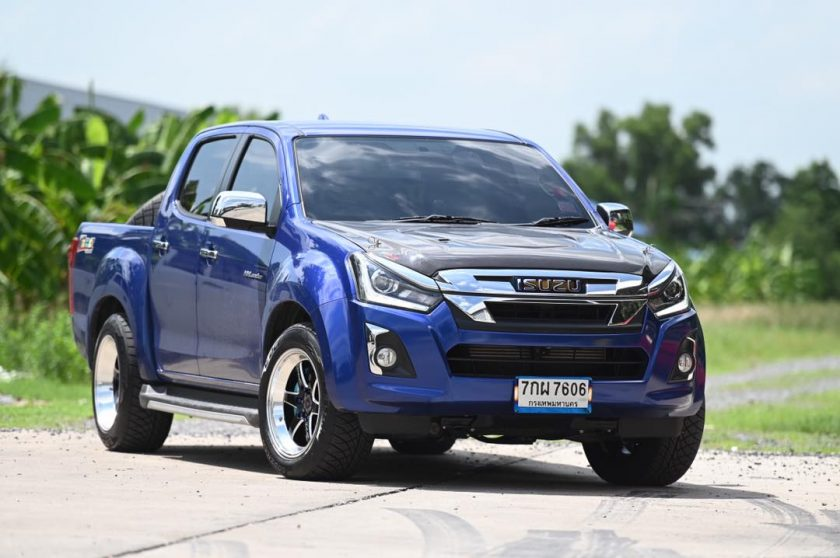pickup: (64, 117, 708, 492)
